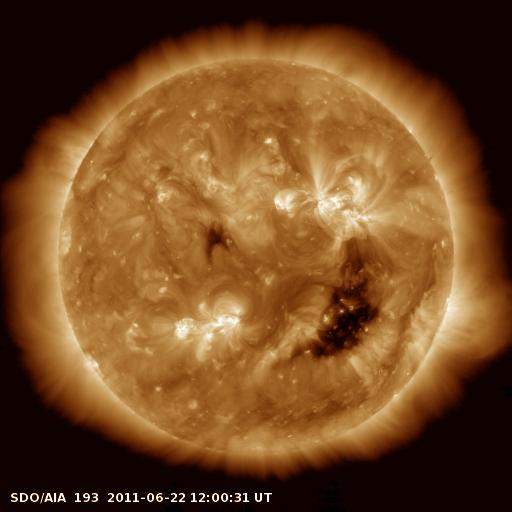coronal_hole: (296, 248, 385, 372), (197, 222, 242, 265)
